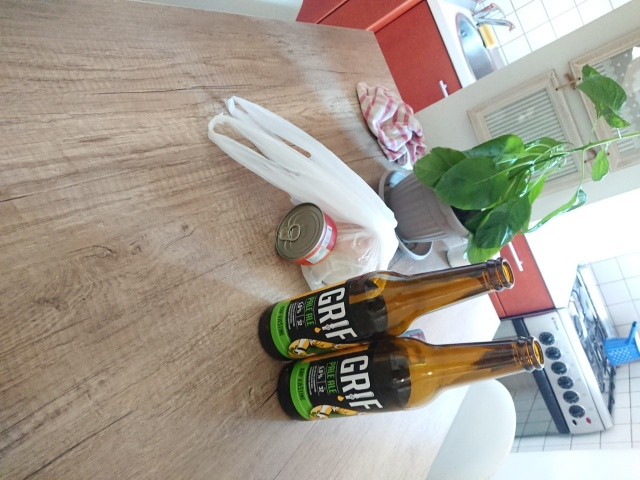Gavrilovic Pork Liver Pate 100g: (272, 200, 339, 267)
